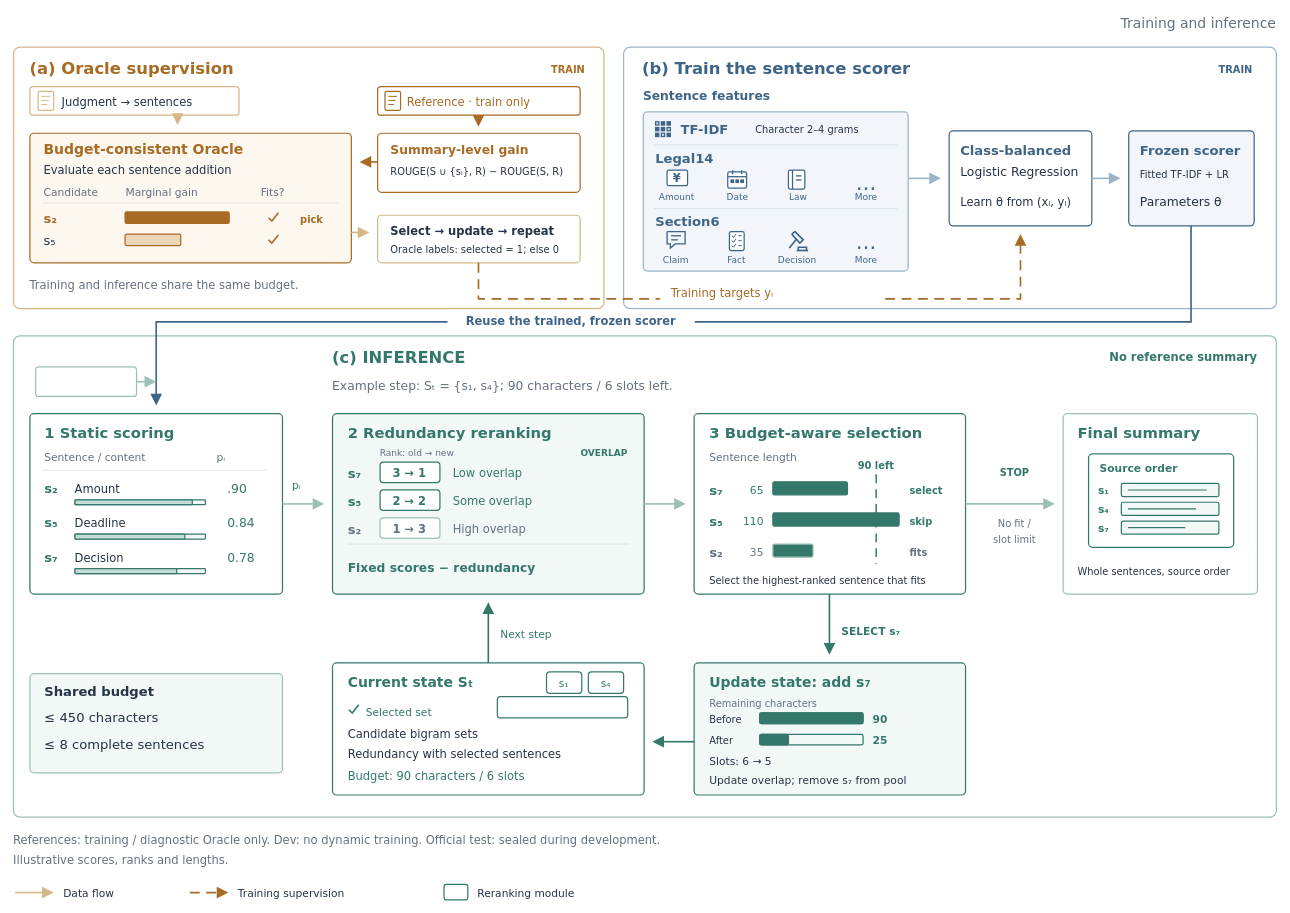
The diagram is 1290 pixels wide and 913 high, and some of its shapes have lost their labels. Here are the shapes that lost their labels. From the top down, the box of each, then its label:
(35, 366, 137, 397): New judgment
(496, 696, 628, 718): Fixed scores
